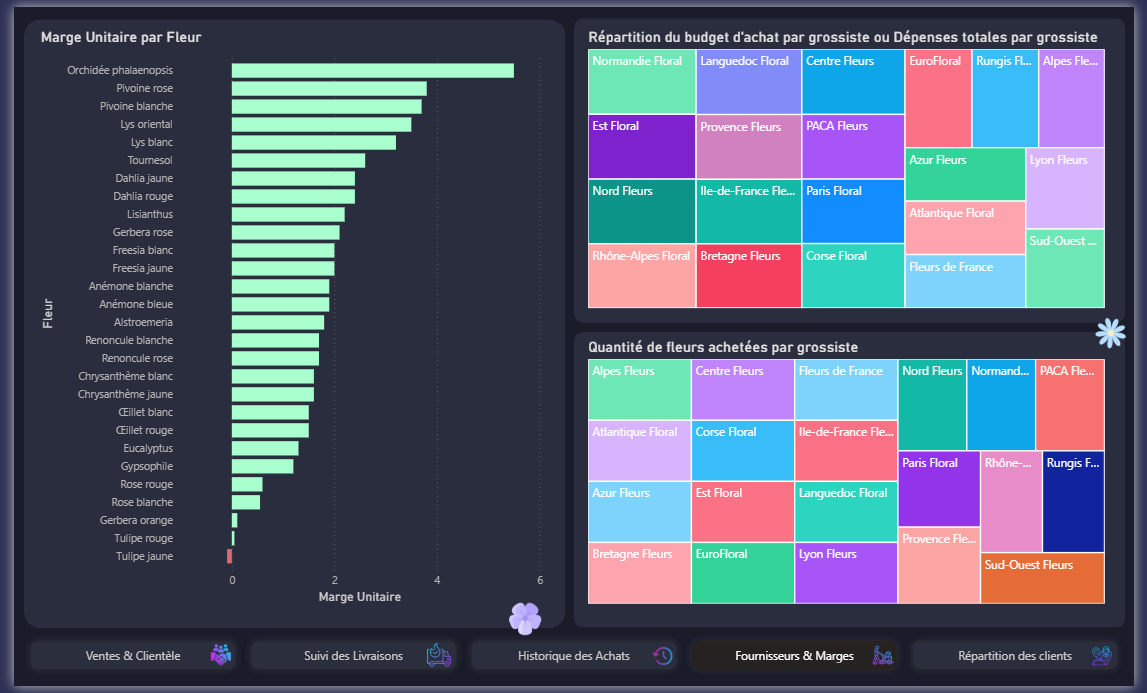

The page's visual inventory and layout, read from the dashboard file:
{"tool":"powerbi","page":{"name":"Fournisseurs & Marges","canvas":[1280,777],"ordinal":3},"visuals":[{"type":"shape","box":[11,13.7,618.9,695.7],"z":0},{"type":"shape","box":[640,13.3,630,348.3],"z":1000},{"type":"barChart","fields":{"Category":["SAE_FLEUR.NOMFLEUR"],"Y":["SAE_FLEUR.Marge Unitaire"]},"box":[25.9,24.1,584.1,662.9],"z":2000},{"type":"treemap","title":"Répartition du budget d''achat par grossiste ou Dépenses totales par grossiste","fields":{"Group":["SAE_GROSSISTE.NOMGROSSISTE"],"Values":["Sum(SAE_ACHATFLEUR.MontantTotalAchat)"]},"box":[651.2,24.1,600,324.7],"z":3000},{"type":"shape","box":[640,371.1,630,337.8],"z":4000},{"type":"treemap","title":"Quantité de fleurs achetées par grossiste","fields":{"Group":["SAE_GROSSISTE.NOMGROSSISTE"],"Values":["Sum(SAE_COMPOSITION.NBRFLEURS)"]},"box":[651.7,378.3,600,308.3],"z":5000},{"type":"pageNavigator","box":[10,716,1260,50],"z":6000},{"type":"image","box":[212.5,723.3,46.7,35],"z":7000},{"type":"image","box":[456.7,715.8,58.3,50],"z":8000},{"type":"image","box":[722.5,725.8,36.7,32.5],"z":9000},{"type":"image","box":[974.2,725,38.3,33.3],"z":10000},{"type":"image","box":[1225,725.8,35.8,32.5],"z":11000},{"type":"image","box":[558.6,675.7,51.4,47.1],"z":12000},{"type":"image","box":[1227.1,348.6,52.9,48.6],"z":13000}]}

Visuals, with their boxes on the page's 1280x777 design canvas (x1, y1, x2, y2). These are canvas units, not pixel positions in the 1147x693 screenshot, which may show the page scaled, cropped or inside an application window:
shape: 11 14 630 709
shape: 640 13 1270 362
barChart - SAE_FLEUR.NOMFLEUR x SAE_FLEUR.Marge Unitaire: 26 24 610 687
"Répartition du budget d''achat par grossiste ou Dépenses totales par grossiste" treemap: 651 24 1251 349
shape: 640 371 1270 709
"Quantité de fleurs achetées par grossiste" treemap: 652 378 1252 687
pageNavigator: 10 716 1270 766
image: 212 723 259 758
image: 457 716 515 766
image: 722 726 759 758
image: 974 725 1012 758
image: 1225 726 1261 758
image: 559 676 610 723
image: 1227 349 1280 397
